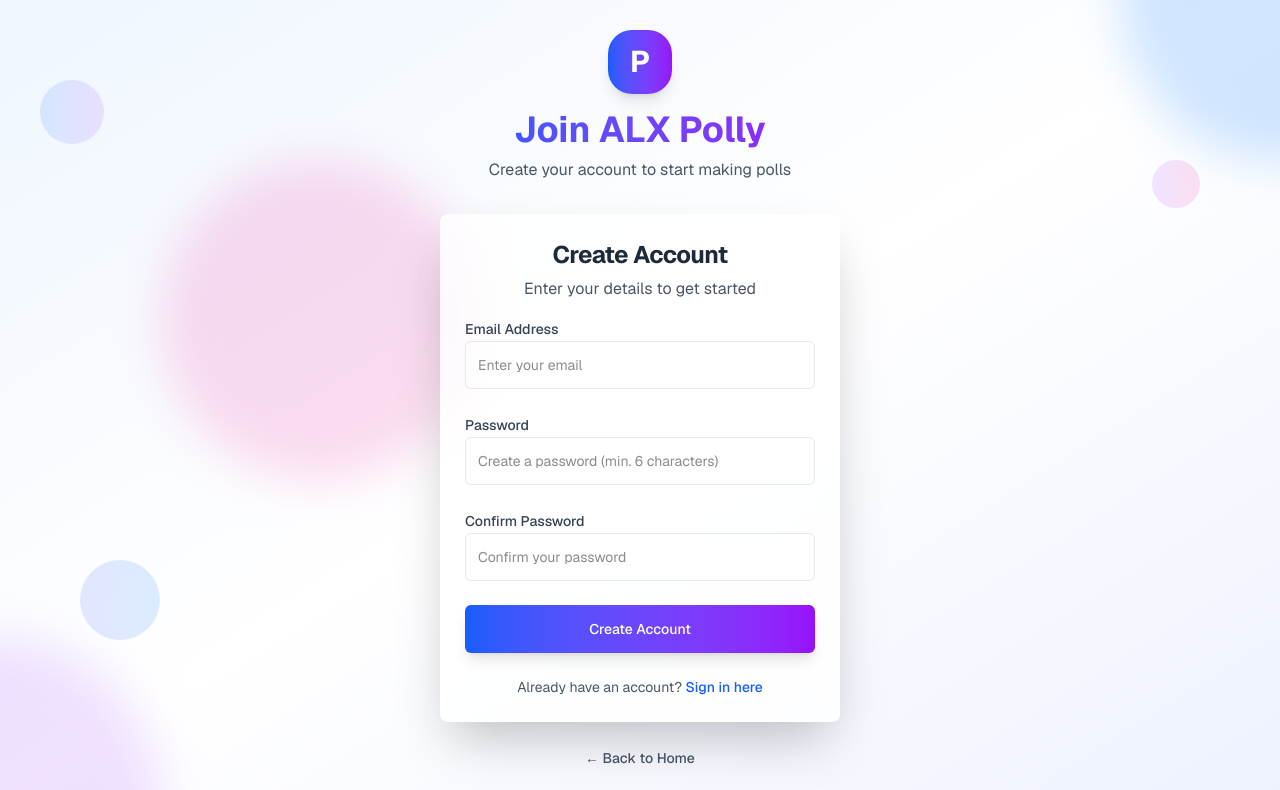
Test: RegisterPage Component › validates password length
Type "test@example.com" into the field labelled "Email Address".
click(640, 365); type("test@example.com")  # box [465,341,815,389]
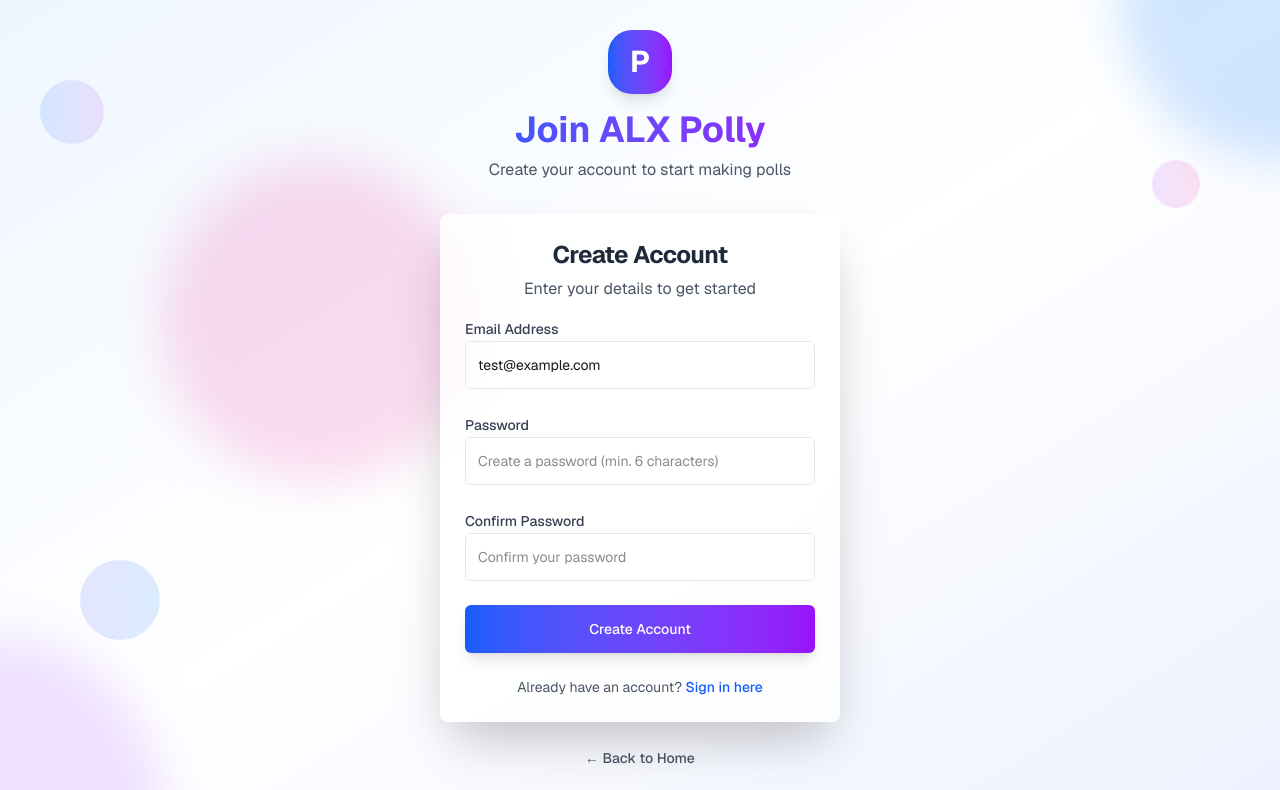
Type "12345" into the password field labelled "Password".
click(640, 461); type("12345")  # box [465,437,815,485]
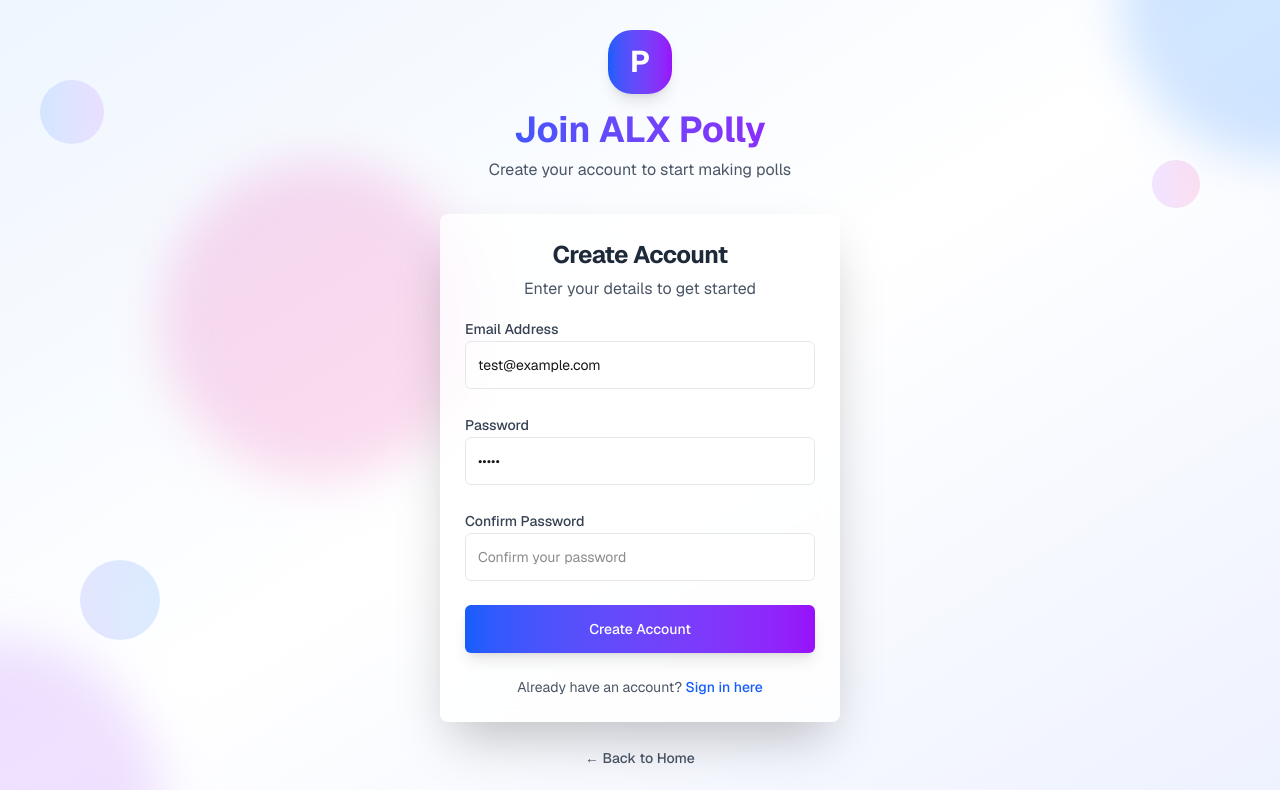
Type "12345" into the password field labelled "Confirm Password".
click(640, 557); type("12345")  # box [465,533,815,581]
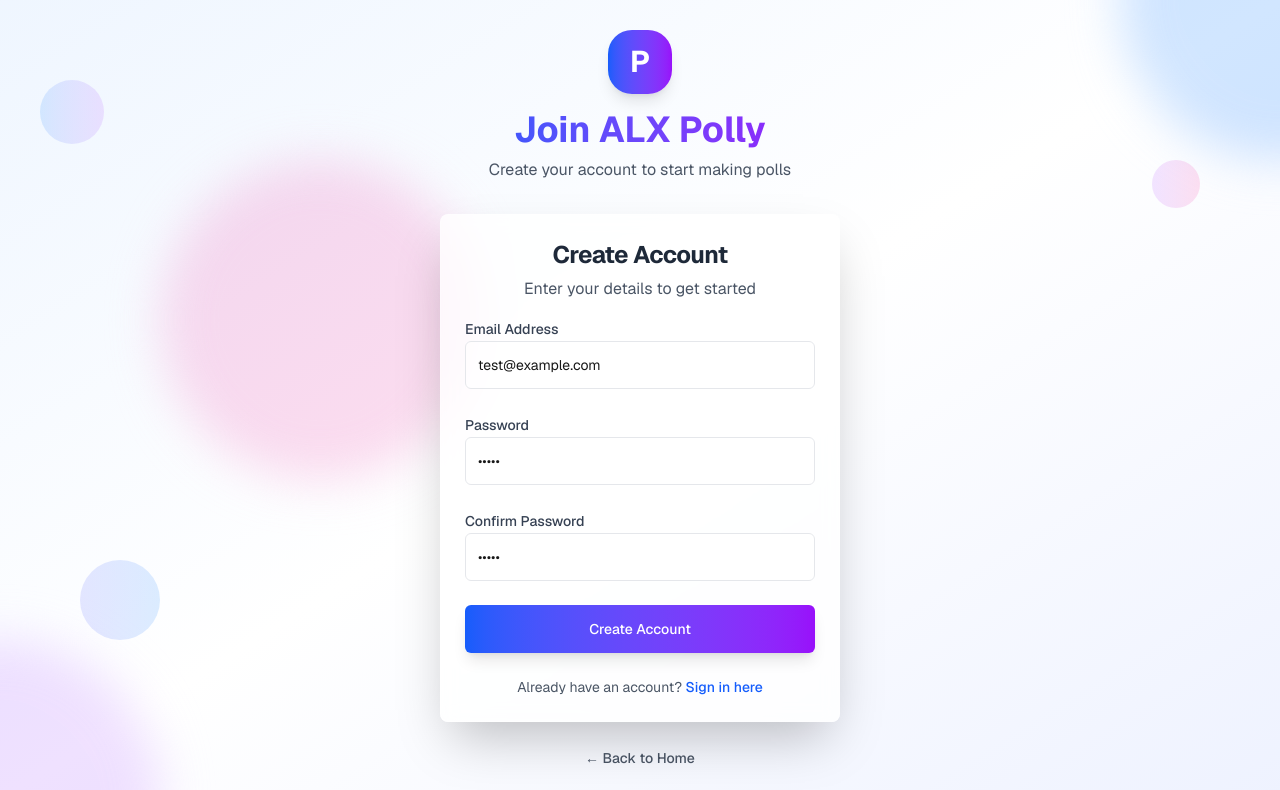
Click the button "Create Account".
click(640, 629)  # box [465,605,815,653]
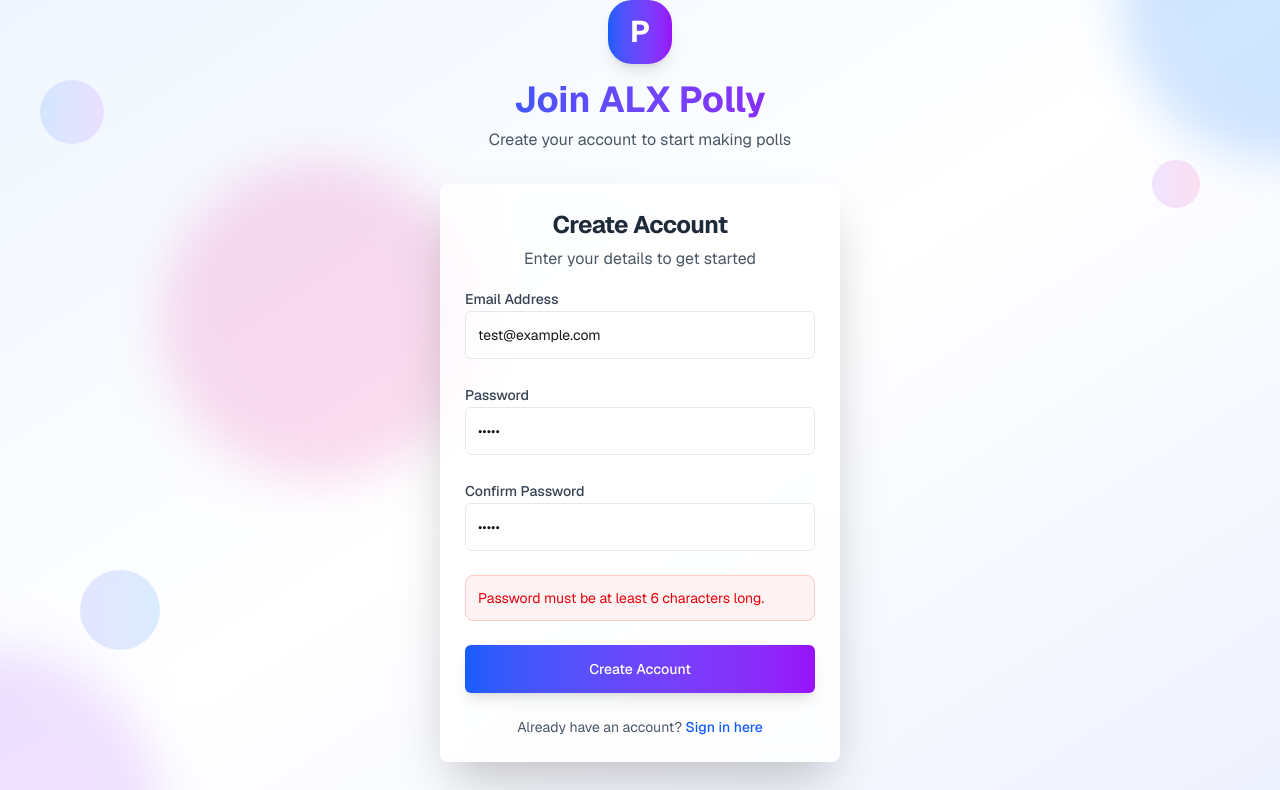
Result: the text "Password must be at least 6 characters long." is shown at [478,588,802,608]
